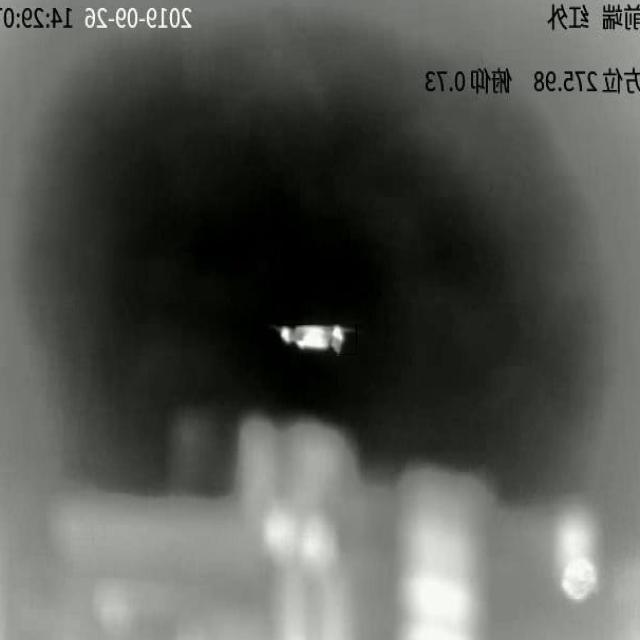drone: (276, 325, 355, 355)
